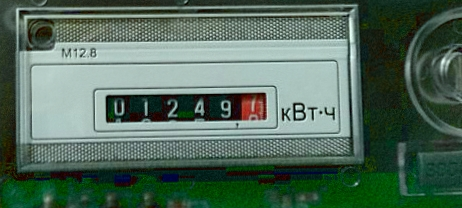0: (111, 96, 126, 116)
1: (138, 96, 151, 117)
2: (163, 96, 180, 118)
4: (192, 96, 206, 116)
7: (246, 92, 260, 112)
9: (218, 97, 232, 118)
screen: (89, 81, 281, 133)
